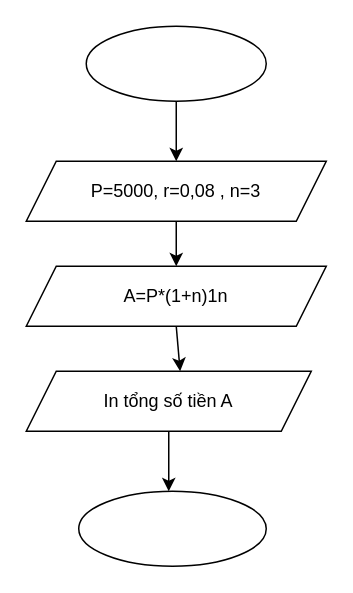
This 353x593 diagram has some shape labels left out. Each missing label, with the centre of its shape:
kết thúc: the point at 171,528
start: the point at 175,63
